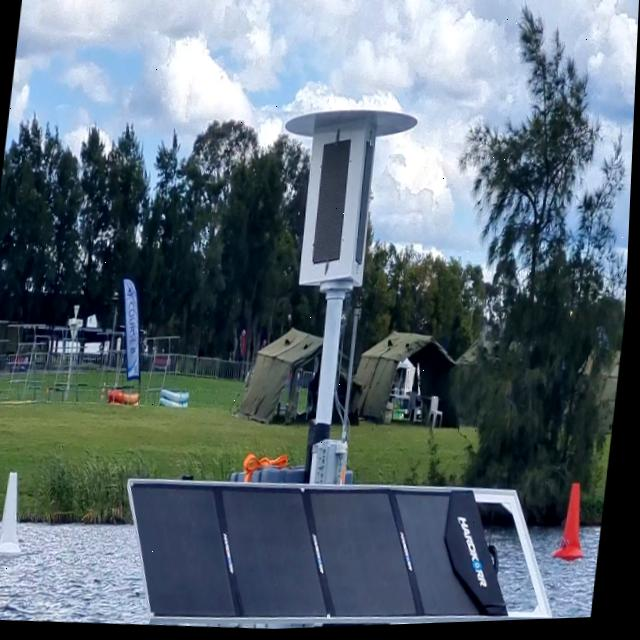led: (306, 131, 362, 276)
